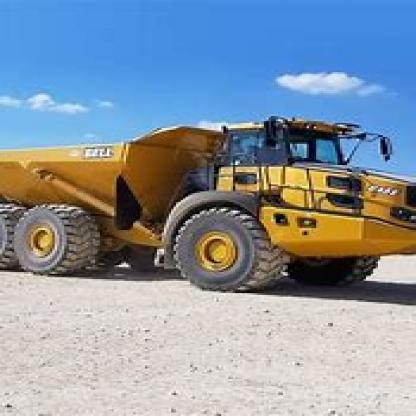dump_truck: (0, 109, 414, 288)
